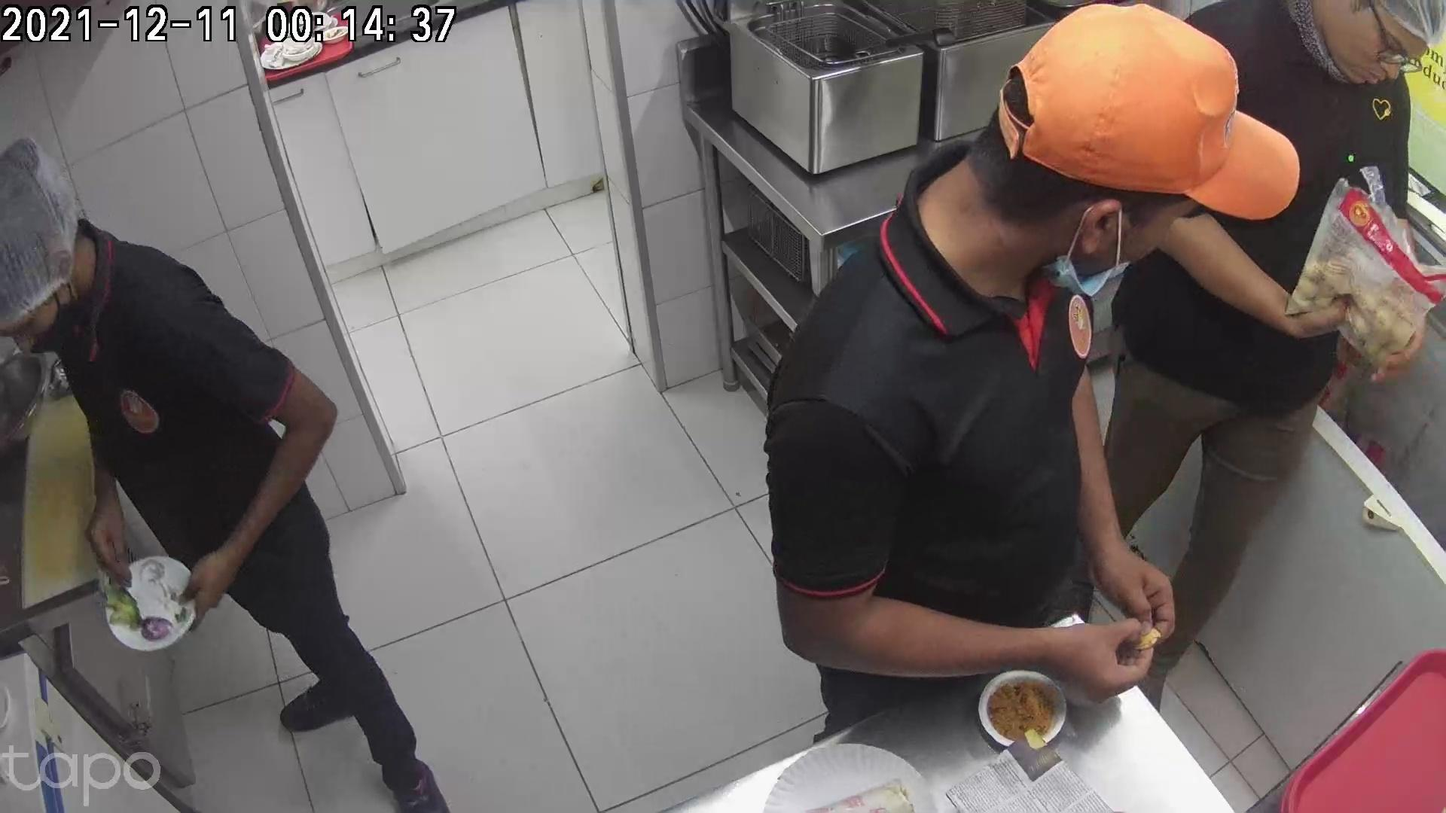gloves: (875, 623, 997, 749)
no_gloves: (1028, 597, 1118, 721)
